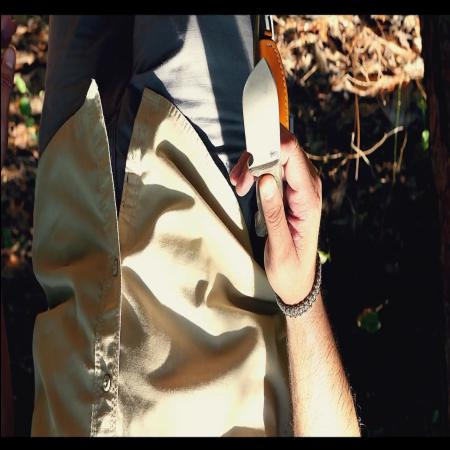long weapon: (227, 53, 324, 248)
